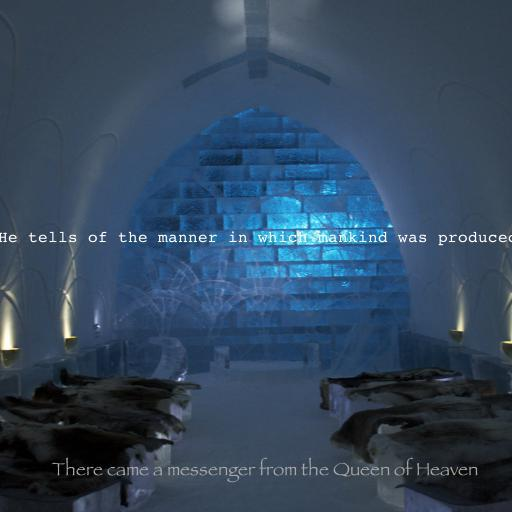Courier: (0, 231, 512, 246)
Papyrus: (52, 457, 478, 483)
